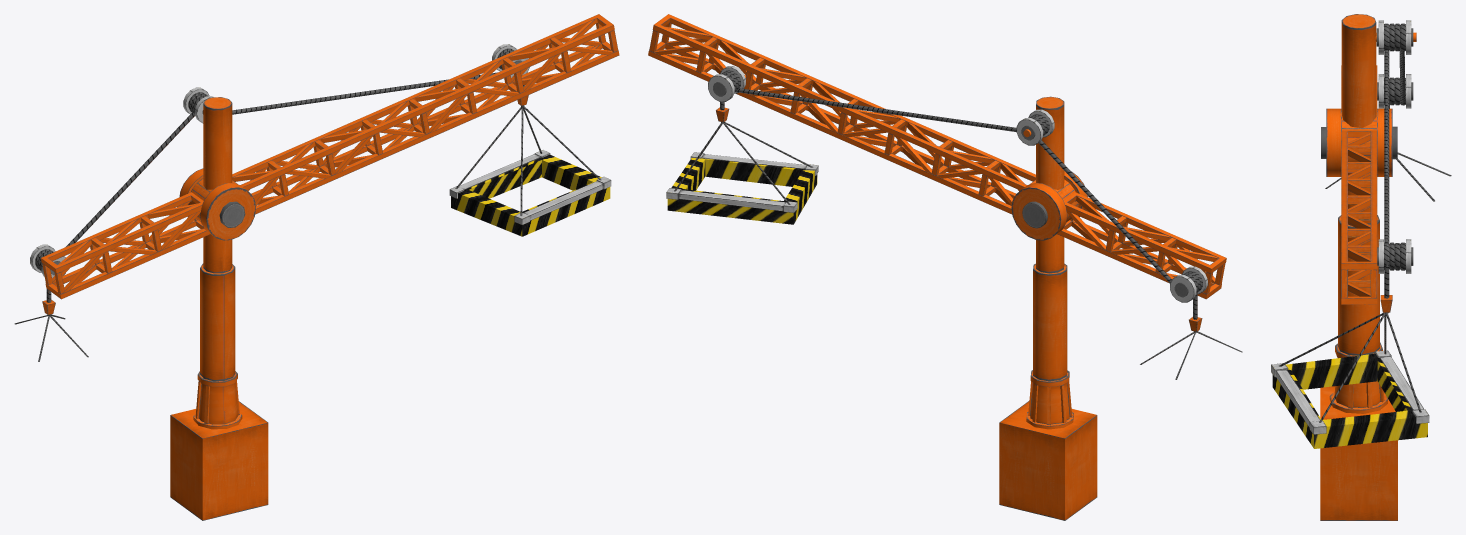
The model's file is SM_Crane_01.fbx.
3 renders of one model, left to right at view 1: azimuth 30°, elevation 25°; view 2: azimuth 150°, elevation 25°; view 3: azimuth 270°, elevation 25°, orthographic. The views are drawn at different scales.
Visible parts, largest first — view 1: SM_Crane_01; view 2: SM_Crane_01; view 3: SM_Crane_01.
Part boxes in pixels (x1,y1,x2,y2): SM_Crane_01: [14, 14, 619, 520]; SM_Crane_01: [648, 14, 1242, 520]; SM_Crane_01: [1271, 14, 1451, 520].
Bounding box in the file's own units: 4151 × 2723 × 932.
